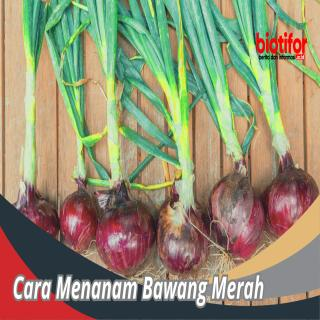Bawang Merah: (14, 1, 320, 280)
